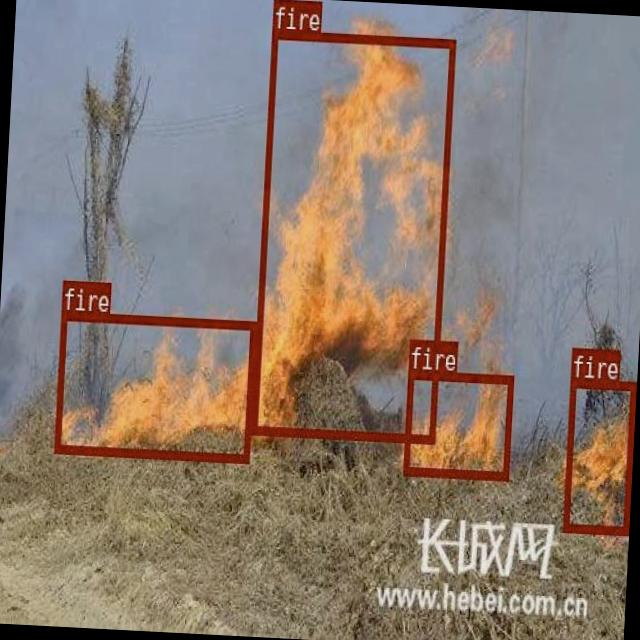fire: (250, 29, 455, 442), (54, 311, 255, 462), (403, 368, 513, 478), (562, 378, 635, 533)
